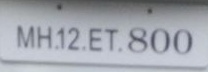character: (127, 27, 148, 53), (173, 27, 192, 55), (150, 27, 169, 53), (16, 24, 34, 48), (36, 25, 51, 50), (88, 26, 101, 51), (105, 26, 117, 50), (67, 27, 78, 49), (57, 27, 65, 49)
